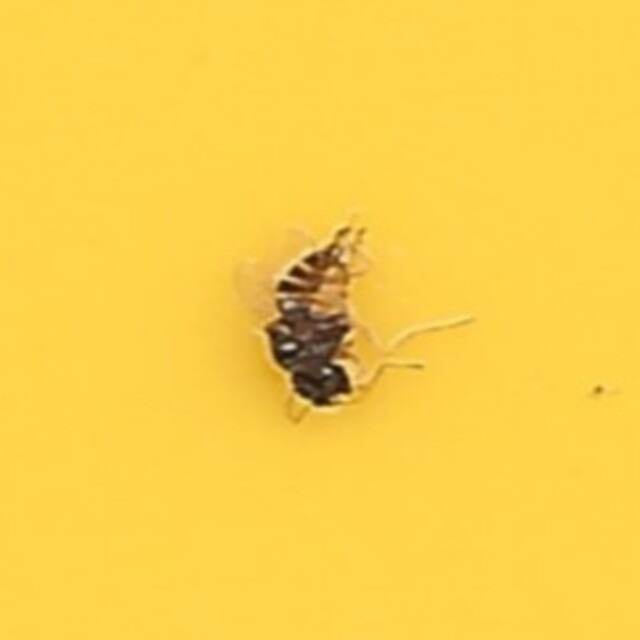Brachycera: (266, 221, 374, 419)
